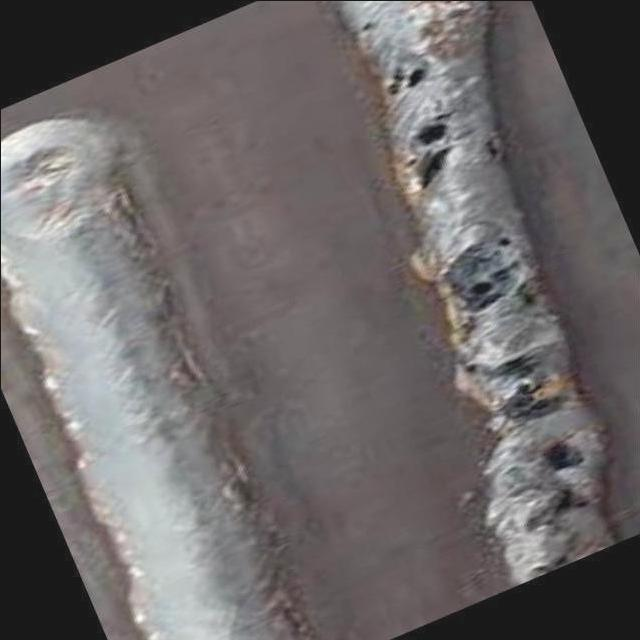defect: (444, 232, 528, 316), (488, 345, 569, 426), (401, 113, 467, 199), (530, 433, 594, 479), (533, 479, 604, 519), (381, 54, 434, 102)
